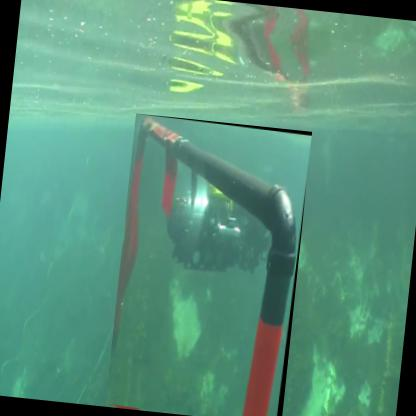gate: (105, 114, 314, 416)
